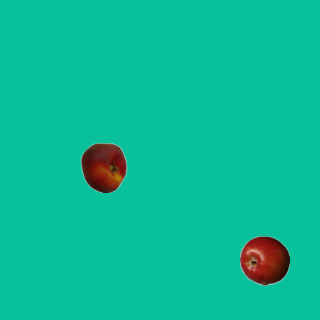Apple Braeburn: (239, 235, 289, 285)
Nectarine Flat: (78, 142, 128, 192)
